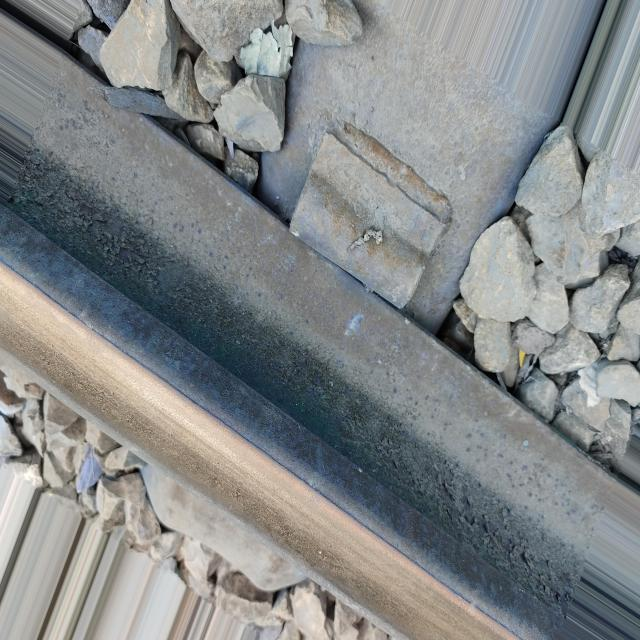Missing Fastener: (274, 118, 466, 317)
